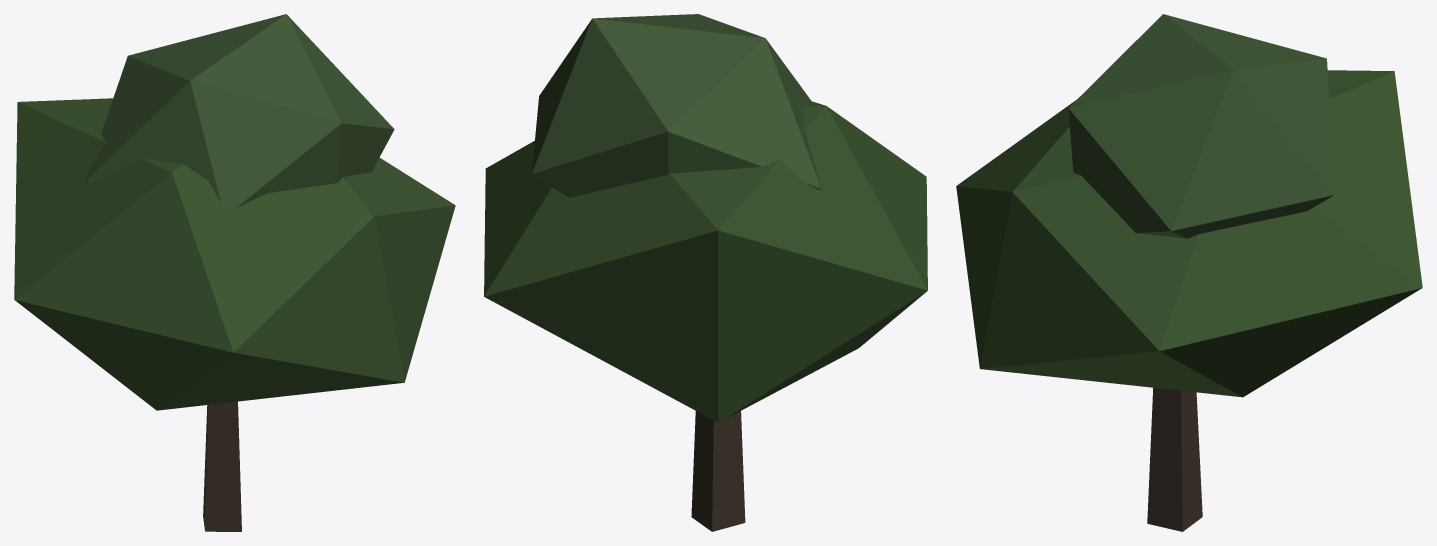
File: holm_oak_far.glb
3 renders of one model, left to right at view 1: azimuth 30°, elevation 25°; view 2: azimuth 150°, elevation 25°; view 3: azimuth 270°, elevation 25°, orthographic. The views are drawn at different scales.
Parts seen in each view (by area): view 1: holm_oak_far; view 2: holm_oak_far; view 3: holm_oak_far.
Part boxes in pixels (box(x1,y1,x2,y2)): holm_oak_far: box(14, 14, 455, 531); holm_oak_far: box(484, 14, 927, 531); holm_oak_far: box(956, 14, 1422, 531).
Bounding box in the file's own units: 7.33 × 7.65 × 6.49.
